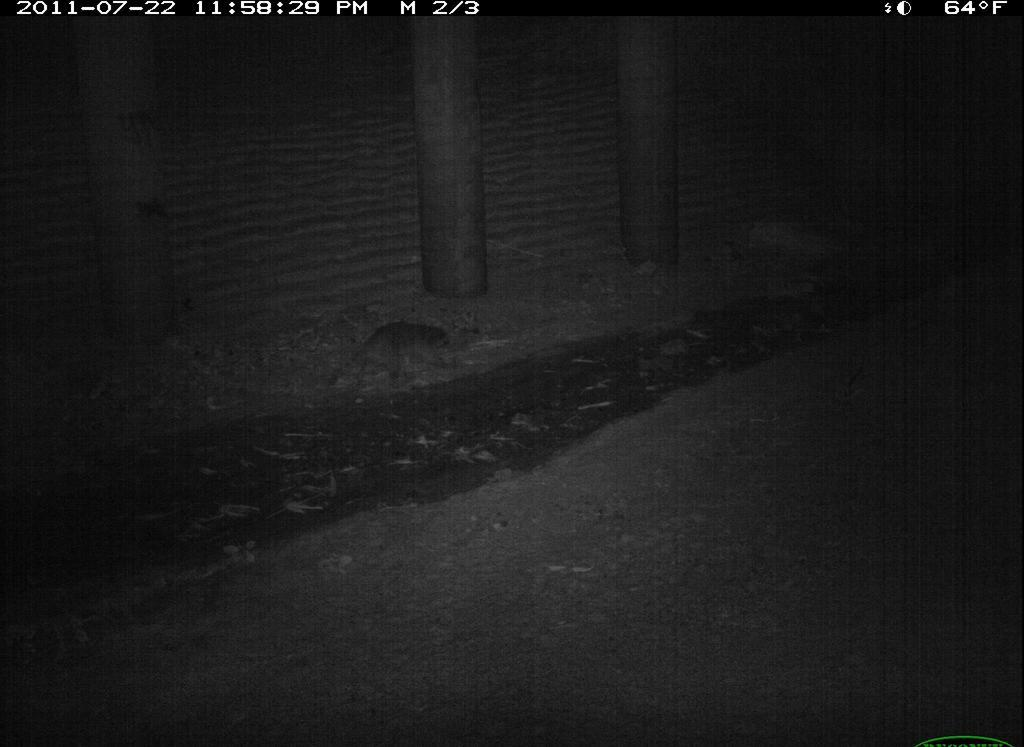raccoon: (651, 629, 919, 747)
